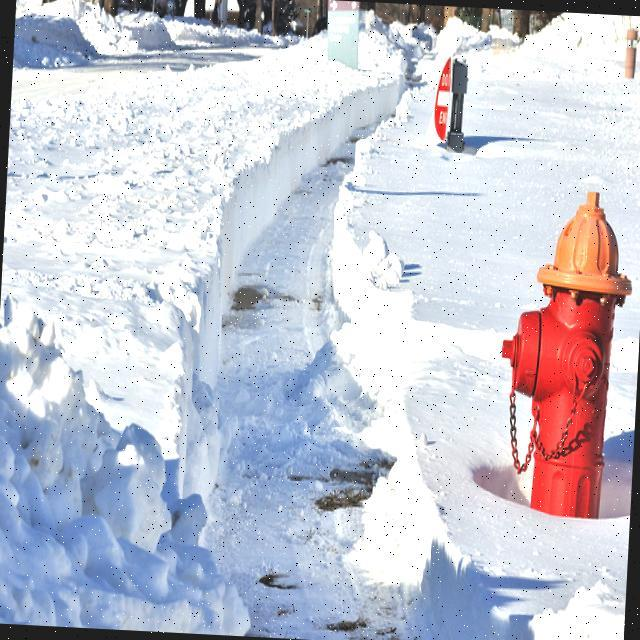fire_hydrant: (496, 192, 634, 522)
